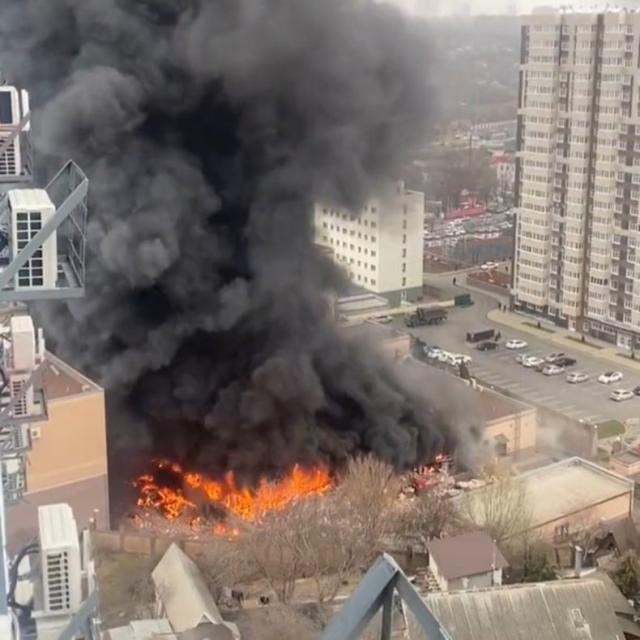Fire: (132, 460, 330, 540)
Smoke: (15, 0, 498, 482)
